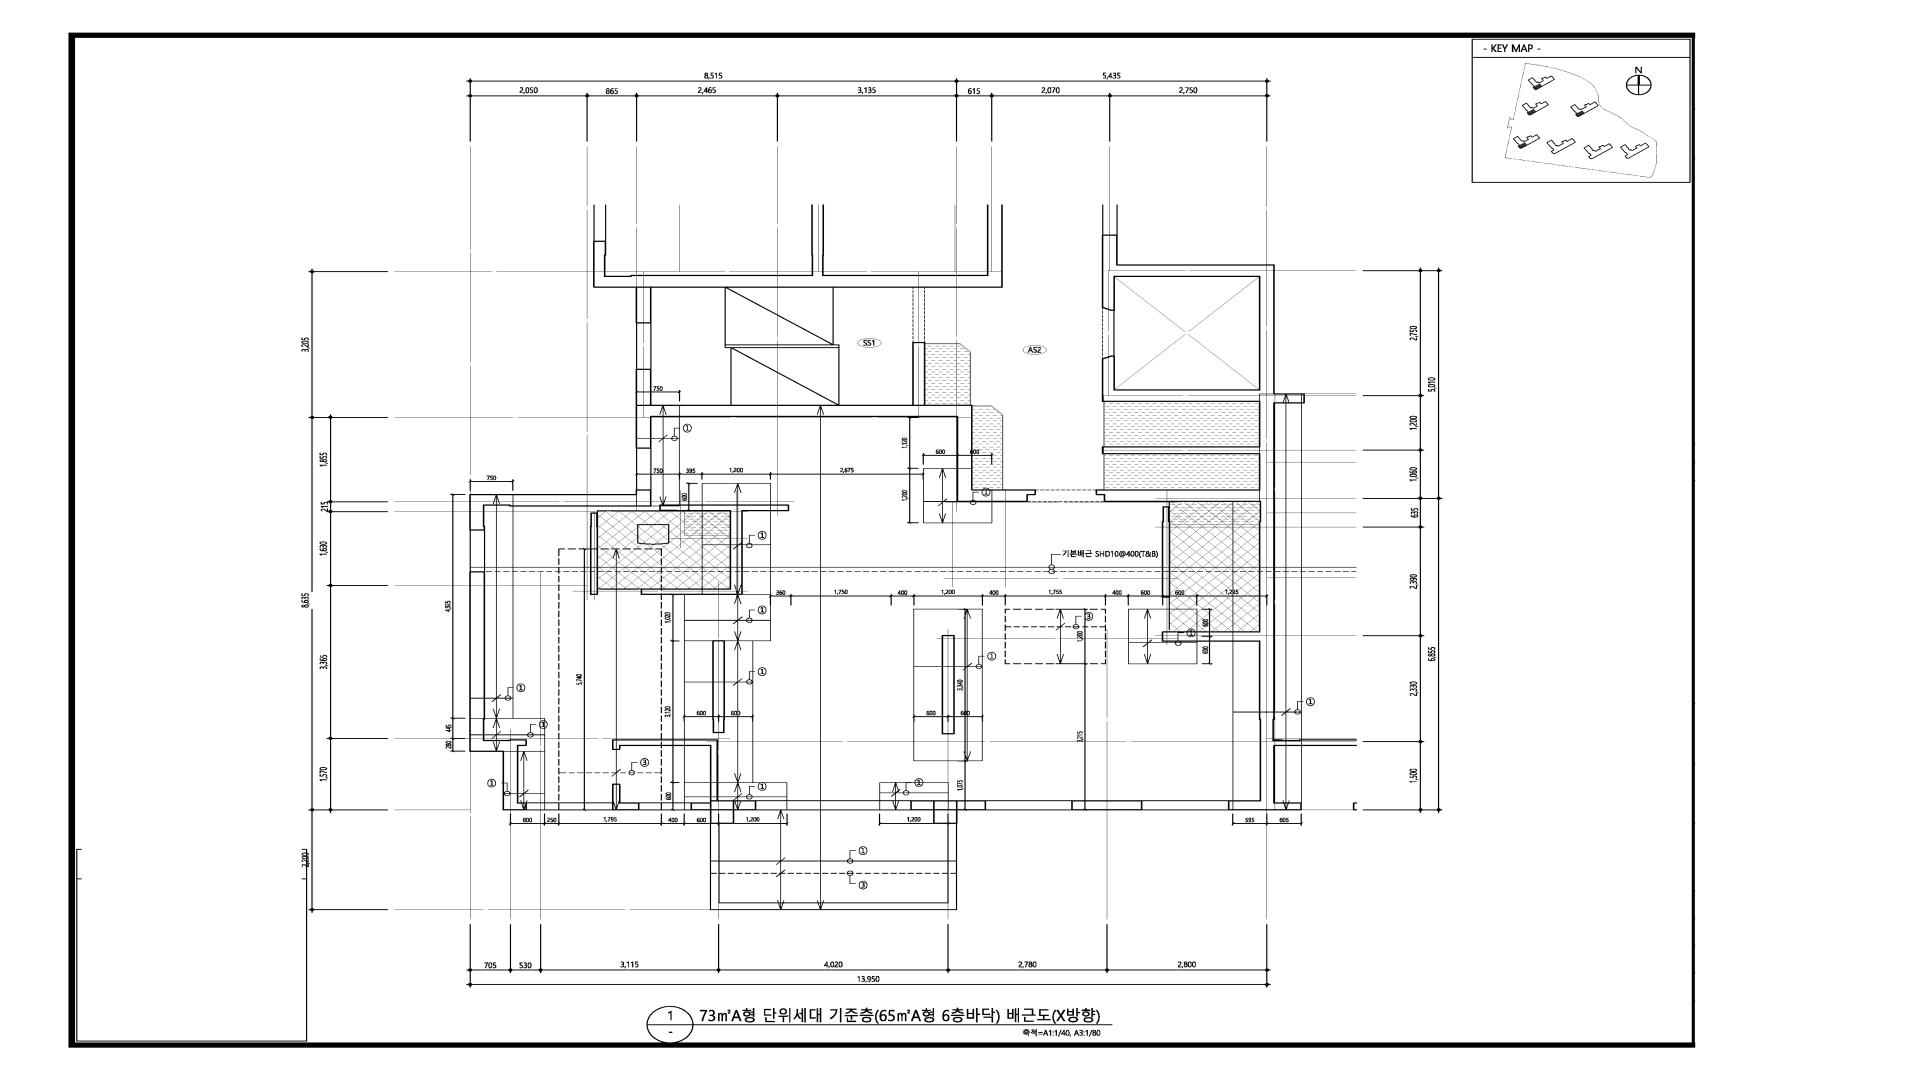wall: (1259, 404, 1275, 800), (593, 275, 1003, 288), (652, 405, 956, 417), (469, 571, 485, 740), (469, 494, 652, 507), (1115, 389, 1275, 402), (1118, 264, 1275, 277), (1096, 490, 1260, 502), (1259, 277, 1275, 389), (957, 405, 973, 489), (942, 635, 955, 735), (1102, 446, 1259, 454), (712, 640, 725, 733), (1162, 631, 1259, 642), (956, 489, 1036, 502), (730, 511, 743, 589), (659, 504, 789, 511), (912, 342, 925, 405), (503, 752, 519, 803), (469, 739, 527, 752), (1102, 264, 1118, 311), (1162, 506, 1170, 598), (1071, 800, 1143, 810), (641, 588, 743, 595), (636, 405, 652, 449), (621, 739, 718, 746), (590, 513, 598, 595), (1102, 356, 1115, 402), (636, 287, 652, 324), (636, 369, 652, 405), (1228, 800, 1275, 811), (1260, 394, 1305, 404), (710, 746, 718, 801), (469, 506, 485, 530), (503, 802, 545, 810), (958, 800, 986, 810), (910, 800, 933, 811), (933, 800, 958, 810), (734, 800, 757, 810), (612, 802, 640, 810), (710, 801, 734, 810), (612, 784, 621, 802), (690, 802, 710, 810), (612, 739, 621, 750), (636, 490, 652, 494)
